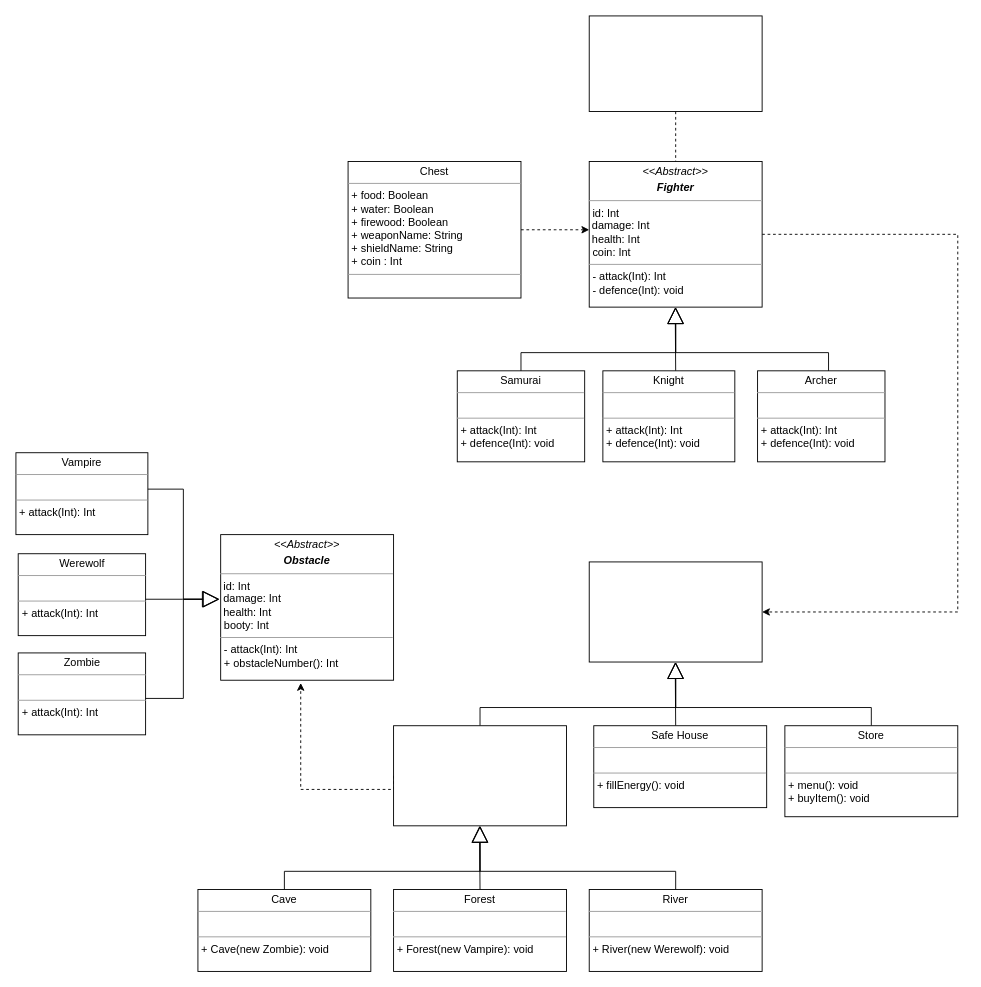
This 981x987 diagram has some shape labels left out. Each missing label, with the box of its shape:
<<Abstract>> Battle Area + combat(): Int: (393, 725, 566, 826)
<<Abstract>> Location - onLocation(): Boolean: (588, 561, 762, 662)
Game - playerName: Player - location: Location + start(): void: (588, 15, 762, 111)
